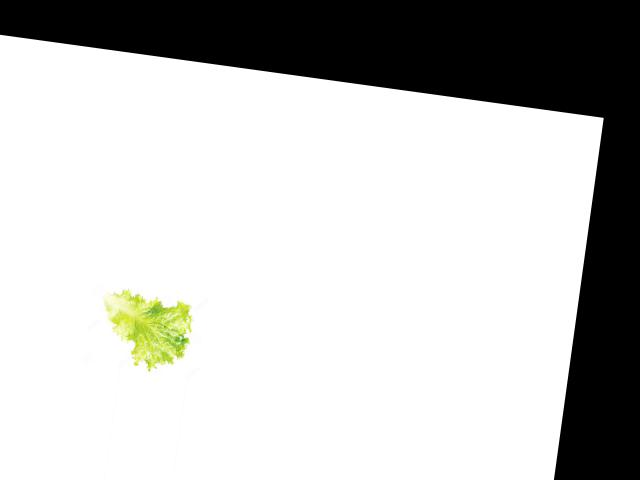lettuce: (93, 290, 195, 374)
